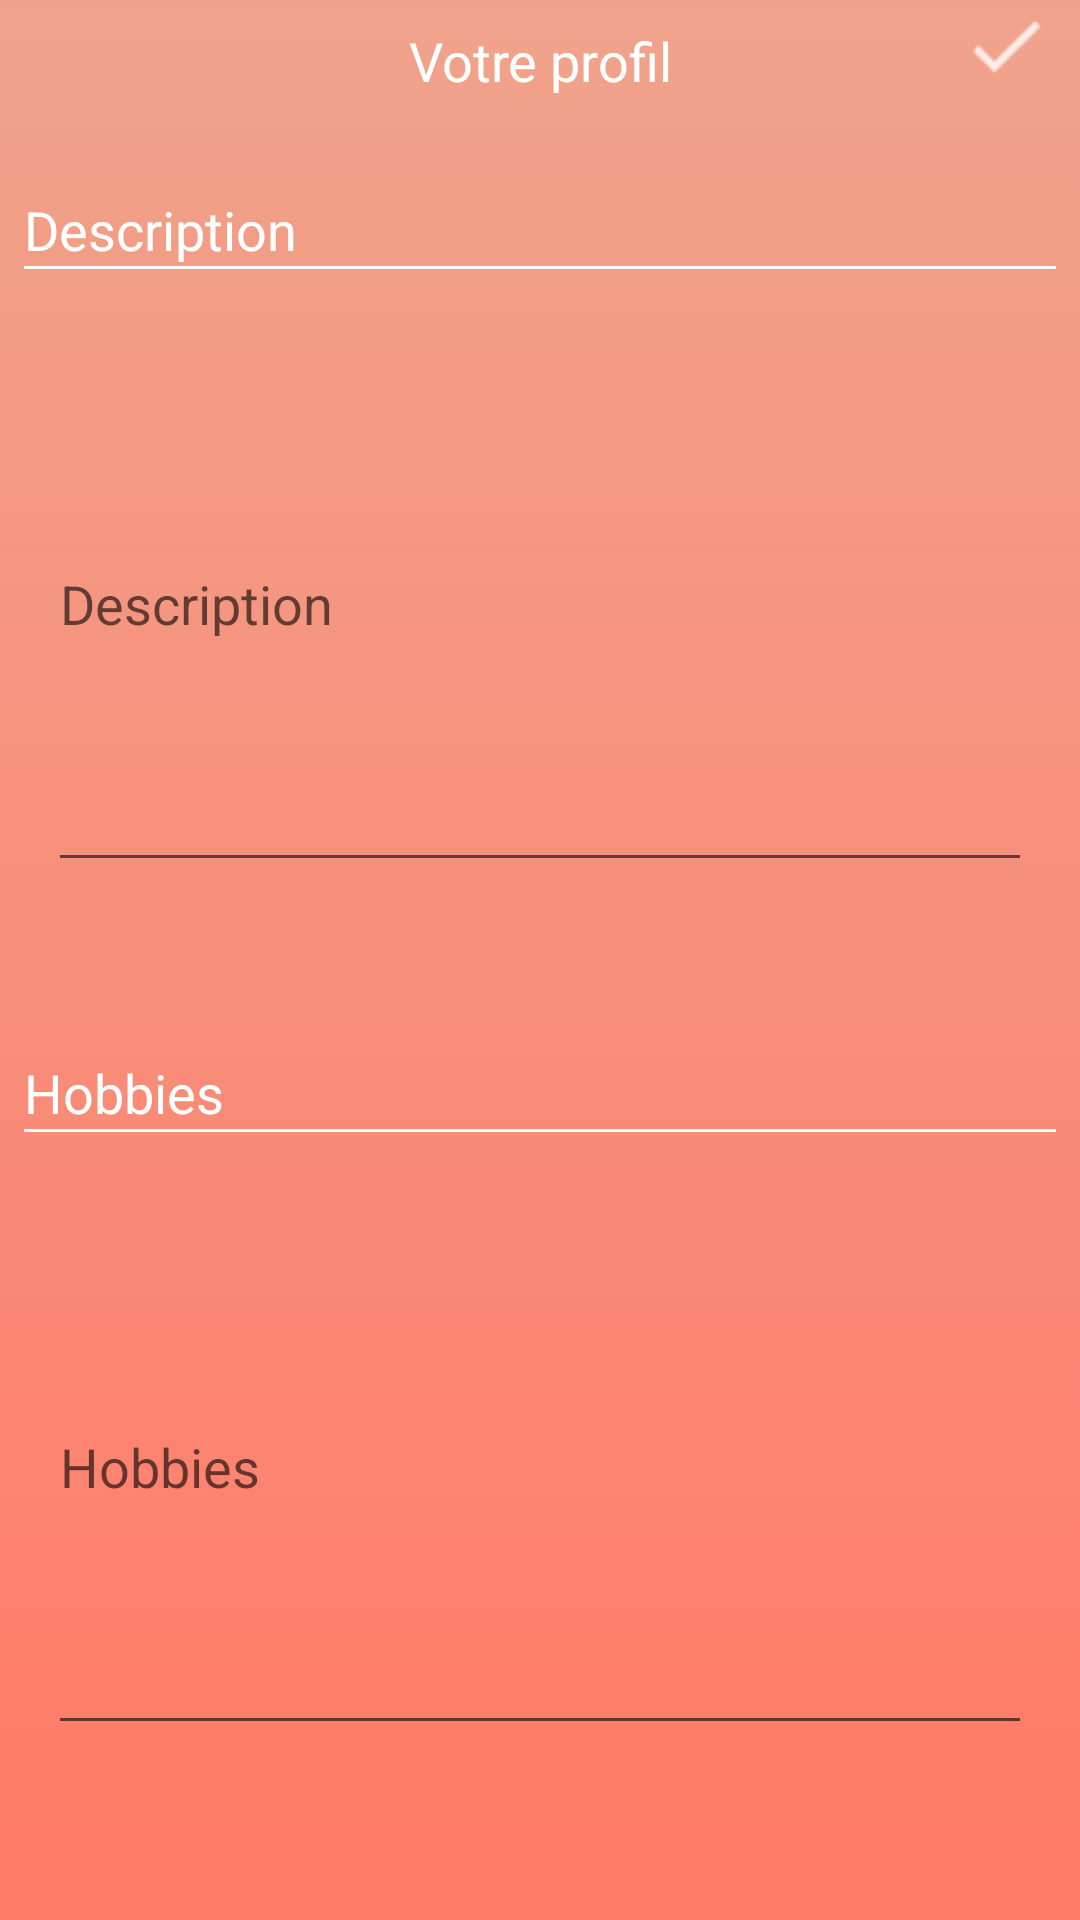

Icon click points for this 1080*1920 phone screenshot, format (x=x, y=y):
check: (x=1007, y=46)
